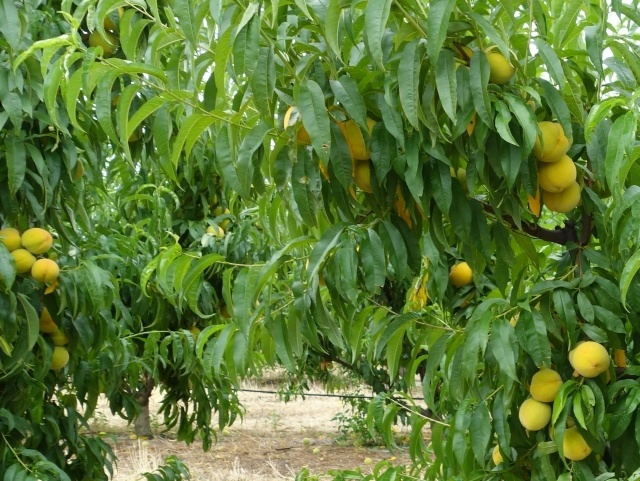peach: (330, 106, 385, 158), (530, 113, 576, 166), (535, 151, 580, 199), (568, 337, 614, 382), (479, 39, 520, 89), (543, 175, 588, 219), (557, 418, 600, 464), (345, 154, 387, 200), (527, 361, 568, 405), (516, 393, 556, 433), (84, 25, 123, 58), (17, 223, 53, 258), (28, 255, 63, 289), (446, 257, 478, 294), (4, 246, 38, 279), (32, 302, 61, 336), (45, 344, 72, 374), (47, 323, 74, 350), (1, 225, 27, 250)
